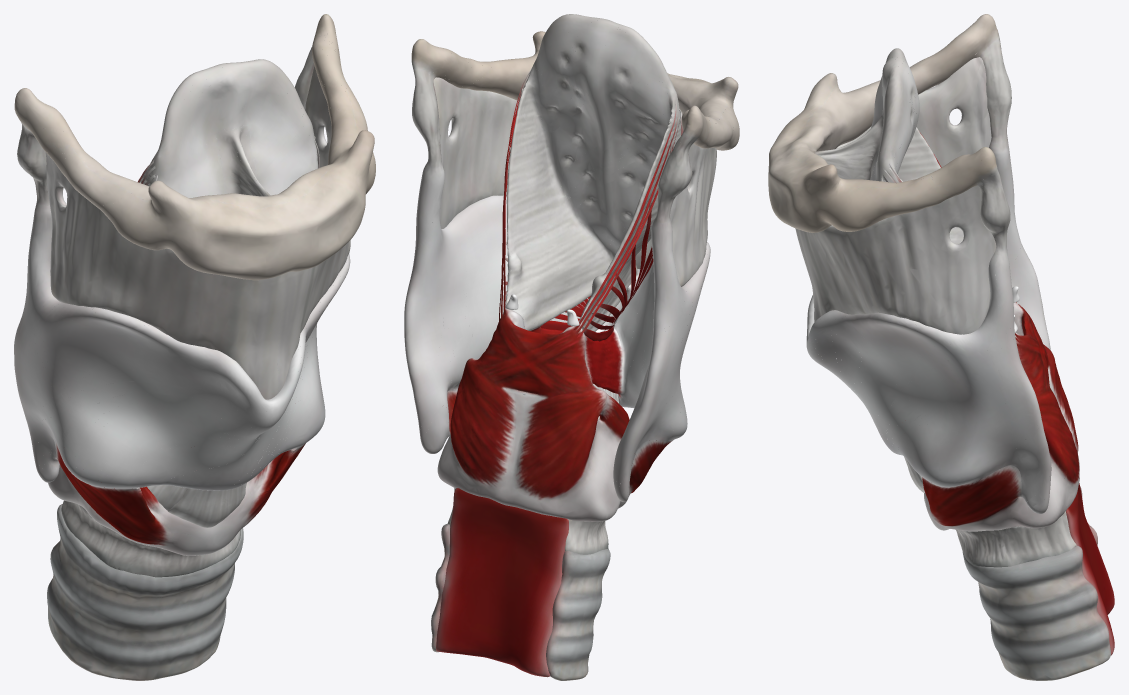
The model's file is larynx_muscles.glb.
3 views of the same model, side by side, from view 1: azimuth 30°, elevation 25°; view 2: azimuth 150°, elevation 25°; view 3: azimuth 270°, elevation 25° (orthographic). The views are drawn at different scales.
Visible parts, largest first — view 1: Top_half_larynx, Thryhyoid_membrane, Trachea, Bottom_half_larynx, Cricotrachael, Hyoepiglottic_ligament; view 2: Top_half_larynx, Bottom_half_larynx, Trachea, Thryhyoid_membrane, Aryepiglottic, Thyroepiglottic1, Cricotrachael; view 3: Top_half_larynx, Thryhyoid_membrane, Trachea, Bottom_half_larynx, Cricotrachael.
Part boxes in pixels (x1,y1,x2,y2): Top_half_larynx: [14, 14, 375, 490]; Thryhyoid_membrane: [45, 66, 350, 399]; Trachea: [47, 504, 243, 680]; Bottom_half_larynx: [48, 438, 305, 555]; Cricotrachael: [61, 500, 240, 577]; Hyoepiglottic_ligament: [147, 468, 246, 527]; Top_half_larynx: [404, 14, 739, 501]; Bottom_half_larynx: [437, 308, 673, 521]; Trachea: [431, 488, 610, 680]; Thryhyoid_membrane: [433, 77, 716, 286]; Aryepiglottic: [499, 68, 680, 337]; Thyroepiglottic1: [503, 88, 683, 341]; Cricotrachael: [447, 488, 608, 554]; Top_half_larynx: [768, 14, 1051, 513]; Thryhyoid_membrane: [795, 54, 996, 334]; Trachea: [962, 483, 1114, 680]; Bottom_half_larynx: [922, 302, 1079, 531]; Cricotrachael: [956, 511, 1076, 567].
Bounding box in the file's own units: 31.91 × 63.07 × 33.18.
Materials: 9 (8 with a texture image).
